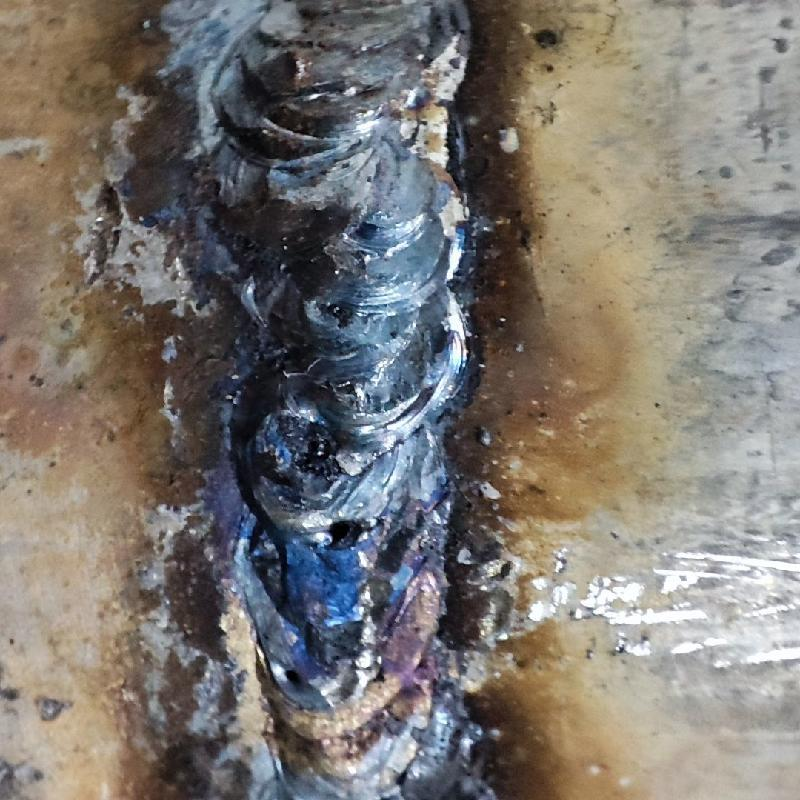Surface_pores: (308, 505, 363, 561), (275, 657, 319, 699), (350, 211, 391, 252)
